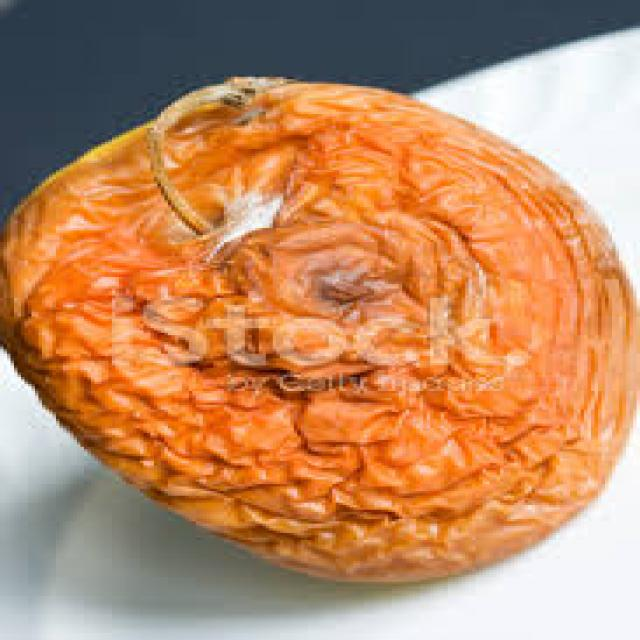organic waste: (0, 70, 637, 579)
